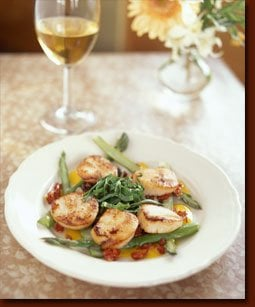curry: (83, 175, 146, 213)
sushi: (6, 129, 244, 299)
